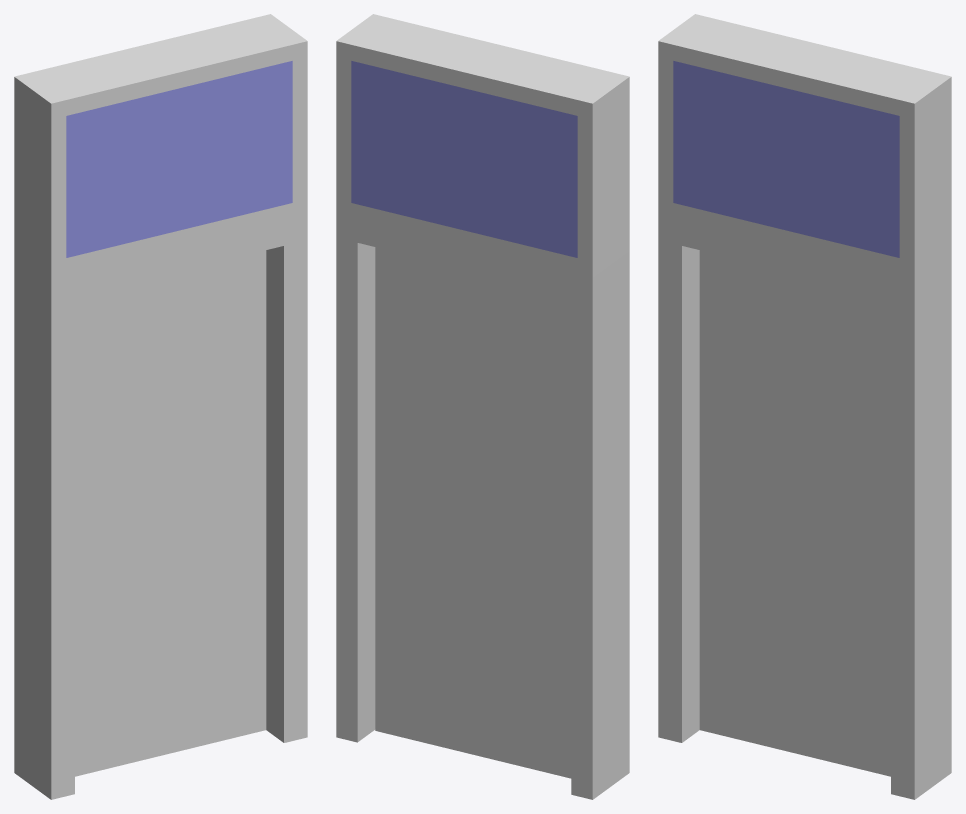
File: doorhome.fbx
3 renders of one model, left to right at view 1: azimuth 30°, elevation 25°; view 2: azimuth 150°, elevation 25°; view 3: azimuth 330°, elevation 25°, orthographic.
Parts seen in each view (by area): view 1: Panel.005, door.home-head, Door.home; view 2: Panel.005, door.home-head, Door.home; view 3: Panel.005, door.home-head, Door.home.
Part boxes in pixels (<box>): Panel.005: <box>75,250,266,776</box>; door.home-head: <box>14,14,307,277</box>; Door.home: <box>14,215,307,799</box>; Panel.005: <box>375,247,571,778</box>; door.home-head: <box>336,14,629,277</box>; Door.home: <box>336,215,629,799</box>; Panel.005: <box>699,250,890,776</box>; door.home-head: <box>658,14,951,277</box>; Door.home: <box>658,215,951,799</box>.
Size of the model in its own units: 108 by 280 by 27.
